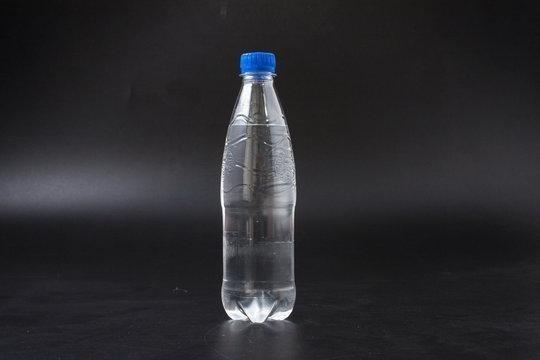bottle-plastic: (217, 49, 301, 326)
